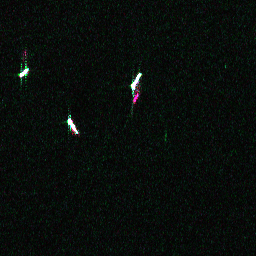ship: (128, 70, 145, 92), (64, 115, 80, 136), (16, 66, 31, 79)
